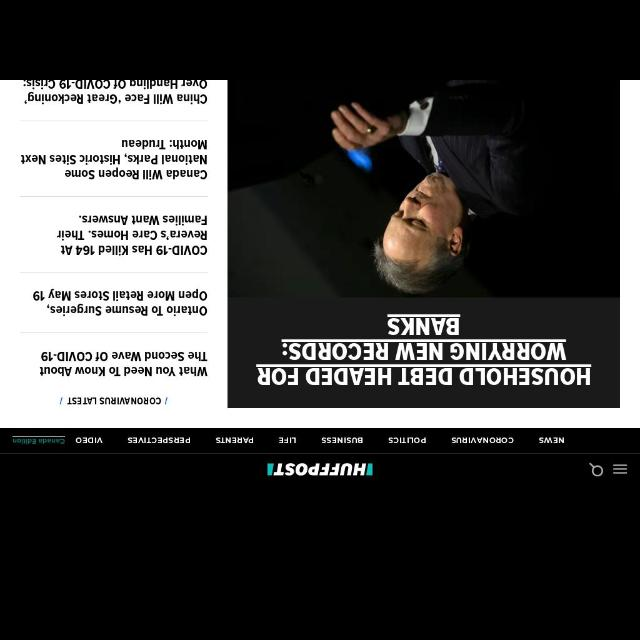icon: (588, 463, 604, 477), (614, 463, 628, 475)
image: (228, 81, 620, 297), (266, 462, 372, 478)
multitab: (1, 428, 639, 454)
text: (255, 315, 591, 387), (21, 140, 207, 180), (56, 214, 208, 256), (40, 349, 208, 377), (34, 290, 208, 316), (19, 80, 207, 104), (68, 398, 160, 404), (451, 437, 513, 445), (128, 436, 190, 444), (12, 438, 66, 446), (322, 436, 363, 444), (216, 436, 254, 444), (389, 436, 426, 444), (539, 435, 565, 445), (76, 436, 102, 444), (279, 438, 297, 444)
